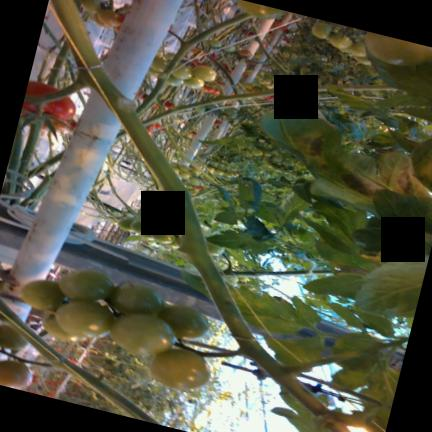6kp_peduncle: (35, 49, 121, 106), (196, 325, 280, 372), (17, 344, 85, 379), (210, 80, 234, 102)
6kp_petiole: (246, 346, 331, 404)
MainStem: (48, 0, 325, 418), (0, 299, 162, 424), (135, 11, 251, 115), (141, 86, 324, 125), (221, 270, 309, 277)
tomato: (110, 313, 174, 355), (150, 349, 209, 389), (364, 31, 432, 65), (55, 300, 114, 337), (23, 81, 75, 119), (109, 282, 163, 315), (58, 269, 113, 300), (157, 305, 208, 338), (20, 280, 65, 310), (41, 314, 78, 341), (0, 360, 31, 389), (236, 0, 284, 18), (0, 324, 26, 350), (96, 9, 123, 27), (327, 32, 352, 48), (150, 228, 175, 243), (192, 65, 215, 81), (310, 22, 330, 38), (129, 219, 150, 234), (171, 65, 192, 79), (348, 41, 365, 56), (81, 0, 100, 13), (150, 57, 166, 72), (205, 241, 222, 255), (182, 77, 203, 88), (165, 74, 182, 86), (117, 218, 132, 231), (352, 55, 370, 64), (236, 49, 251, 58), (208, 39, 222, 48), (188, 177, 201, 185), (221, 45, 235, 52), (147, 68, 159, 76), (178, 171, 190, 179), (190, 168, 201, 175), (271, 155, 282, 162), (250, 149, 262, 155), (223, 171, 234, 177), (178, 165, 188, 171), (261, 78, 270, 84), (206, 166, 214, 172), (214, 169, 223, 174), (262, 151, 270, 156), (272, 82, 279, 87), (264, 84, 272, 88)
